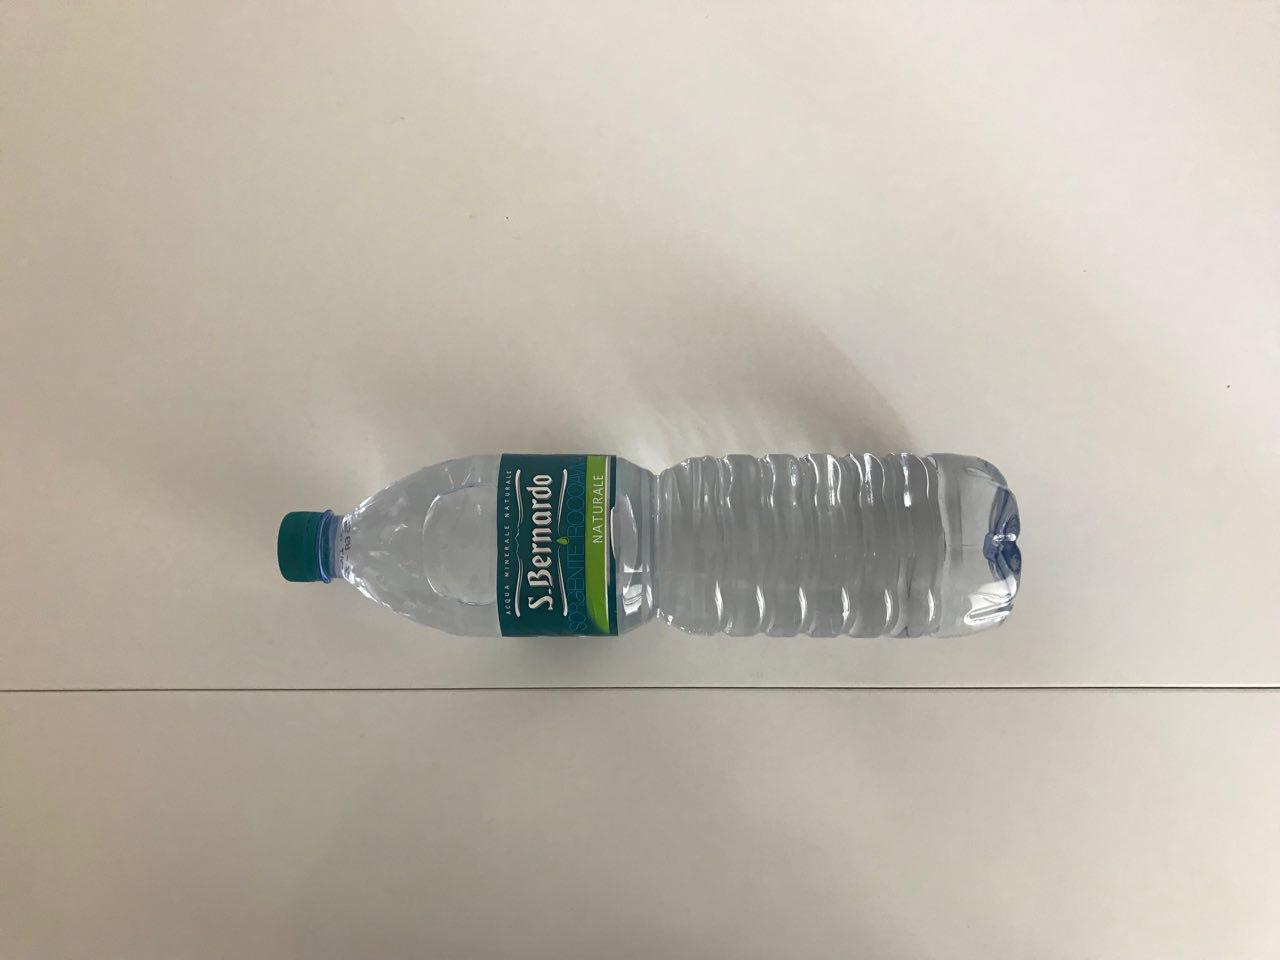san_bernardo: (275, 452, 1024, 642)
